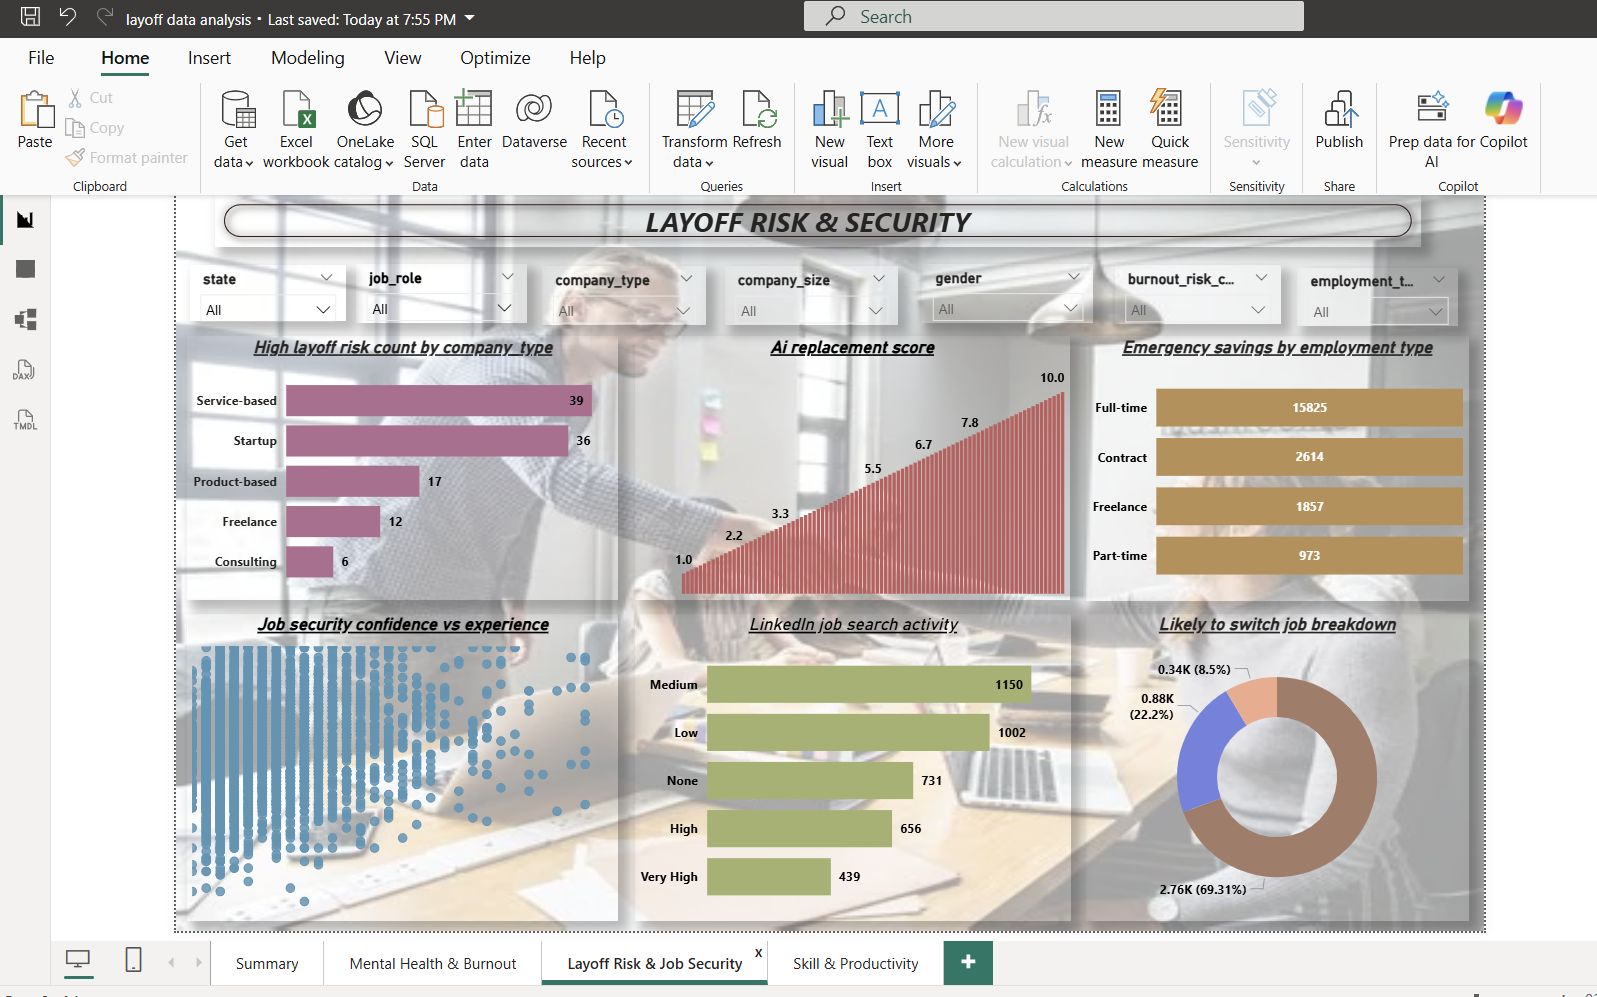

This screenshot's page, from the dashboard's own definition file:
{"tool":"powerbi","page":{"name":"Layoff Risk & Job Security","canvas":[1280,720],"ordinal":2},"visuals":[{"type":"shape","box":[37.9,0,1180,50.1],"z":0},{"type":"textbox","box":[432.9,2.4,370.5,45.2],"z":1000},{"type":"barChart","fields":{"Y":["layoff data.High layoff risk count"],"Category":["layoff data.company_type"]},"box":[11,138.2,421.9,258],"z":2000},{"type":"clusteredColumnChart","title":"Ai replacement score","fields":{"Category":["layoff data.ai_replacement_fear_score"],"Y":["Avg(layoff data.ai_replacement_fear_score)"]},"box":[448.8,138.2,425.5,258],"z":3000},{"type":"hundredPercentStackedBarChart","title":" Emergency savings by employment type","fields":{"Y":["Sum(layoff data.emergency_savings_months)"],"Category":["layoff data.employment_type"]},"box":[890.2,138.2,374.2,259.2],"z":4000},{"type":"scatterChart","title":" Job security confidence vs experience","fields":{"Y":["Avg(layoff data.job_security_confidence)"],"X":["Avg(layoff data.experience_years)"],"Category":["layoff data.developer_id"]},"box":[11,409.6,421.9,300.8],"z":5000},{"type":"barChart","title":"LinkedIn job search activity","fields":{"Y":["CountNonNull(layoff data.linkedin_job_search_activity)"],"Category":["layoff data.linkedin_job_search_activity"]},"box":[448.8,409.6,426.8,300.8],"z":6000},{"type":"donutChart","title":"Likely to switch job breakdown","fields":{"Y":["CountNonNull(layoff data.likely_to_switch_job)"],"Category":["layoff data.likely_to_switch_job"]},"box":[890.2,409.6,374.2,300.8],"z":7000},{"type":"slicer","fields":{"Values":["layoff data.state"]},"box":[13.5,68.3,152.9,55],"z":7001},{"type":"slicer","fields":{"Values":["layoff data.job_role"]},"box":[176.1,67,167.5,57.5],"z":7002},{"type":"slicer","fields":{"Values":["layoff data.company_type"]},"box":[358.3,69.5,160.2,57.5],"z":7003},{"type":"slicer","fields":{"Values":["layoff data.company_size"]},"box":[536.8,69.5,170,57.5],"z":7004},{"type":"slicer","fields":{"Values":["layoff data.gender"]},"box":[730,67,167.5,57.5],"z":7005},{"type":"slicer","fields":{"Values":["layoff data.burnout_risk_category"]},"box":[918.3,68.3,162.6,57.5],"z":7006},{"type":"slicer","fields":{"Values":["layoff data.employment_type"]},"box":[1096.9,70.7,157.7,57.5],"z":7007}]}

Visuals, with their boxes on the page's 1280x720 design canvas (x1, y1, x2, y2). These are canvas units, not pixel positions in the 1597x997 screenshot, which may show the page scaled, cropped or inside an application window:
shape: rect(38, 0, 1218, 50)
textbox: rect(433, 2, 803, 48)
barChart - layoff data.High layoff risk count x layoff data.company_type: rect(11, 138, 433, 396)
"Ai replacement score" clusteredColumnChart: rect(449, 138, 874, 396)
" Emergency savings by employment type" hundredPercentStackedBarChart: rect(890, 138, 1264, 397)
" Job security confidence vs experience" scatterChart: rect(11, 410, 433, 710)
"LinkedIn job search activity" barChart: rect(449, 410, 876, 710)
"Likely to switch job breakdown" donutChart: rect(890, 410, 1264, 710)
slicer - layoff data.state: rect(14, 68, 166, 123)
slicer - layoff data.job_role: rect(176, 67, 344, 124)
slicer - layoff data.company_type: rect(358, 70, 518, 127)
slicer - layoff data.company_size: rect(537, 70, 707, 127)
slicer - layoff data.gender: rect(730, 67, 898, 124)
slicer - layoff data.burnout_risk_category: rect(918, 68, 1081, 126)
slicer - layoff data.employment_type: rect(1097, 71, 1255, 128)
